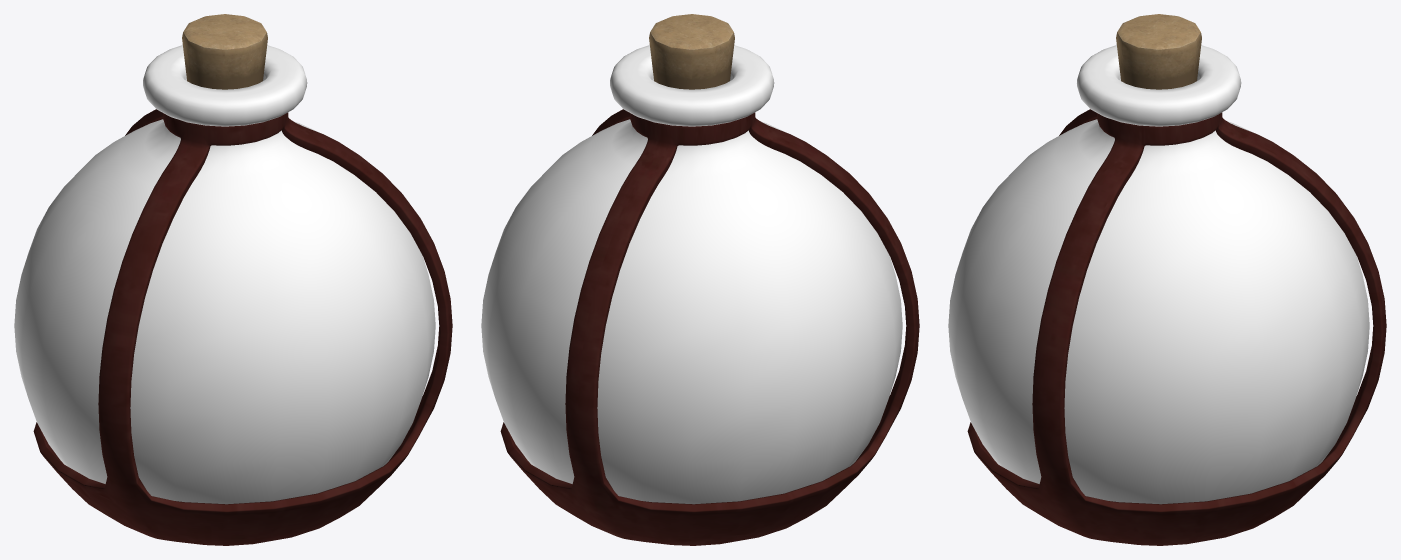
Rendered from mana_potion.glb.
3 renders of one model, left to right at view 1: azimuth 30°, elevation 25°; view 2: azimuth 150°, elevation 25°; view 3: azimuth 270°, elevation 25°, orthographic.
Visible parts, largest first — view 1: Object_3, Object_2, Object_5; view 2: Object_3, Object_2, Object_5; view 3: Object_3, Object_2, Object_5.
Part boxes in pixels (left/top/right/bottom): Object_3: left=14, top=45, right=435, bottom=504; Object_2: left=33, top=109, right=452, bottom=545; Object_5: left=182, top=14, right=267, bottom=89; Object_3: left=481, top=45, right=902, bottom=504; Object_2: left=500, top=109, right=919, bottom=545; Object_5: left=649, top=14, right=734, bottom=89; Object_3: left=948, top=45, right=1369, bottom=504; Object_2: left=967, top=109, right=1386, bottom=545; Object_5: left=1116, top=14, right=1201, bottom=89.
Size of the model in its own units: 15.49 by 19.23 by 16.11.
5 materials, 2 textured.
